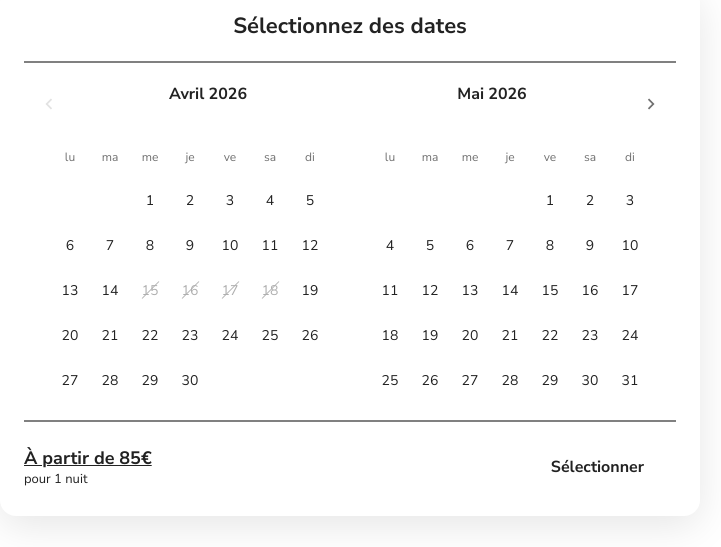
Scenario: DatePicker.vue › permet de naviguer au mois suivant
On clique sur le bouton "Mois suivant" (le 2ème bouton nav-btn)
Click the 2nd button with class "nav-btn" at (650, 104), box [634,88,666,120]
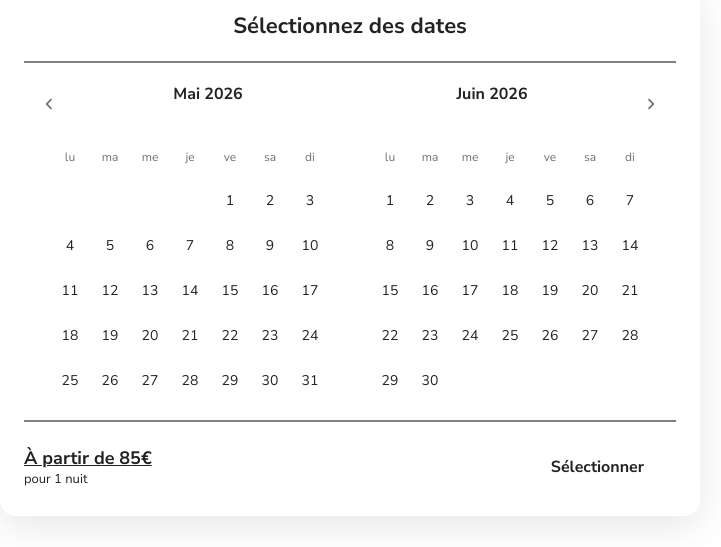
Result: the text with class "month-title" reads "Mai 2026" at [173,83,243,105]
Result: the text with class "month-title" reads "Juin 2026" at [456,83,528,105]
